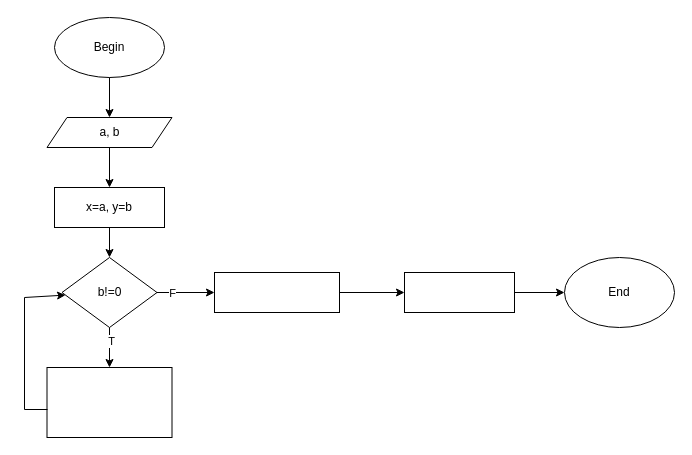
This 692x455 diagram has some shape labels left out. The centre of each missing label's shape, as x and y in pixels:
bcnn: point (459, 292)
bcnn=(x*y)/a: point (277, 292)
r=a%b a=b b=r: point (109, 402)
